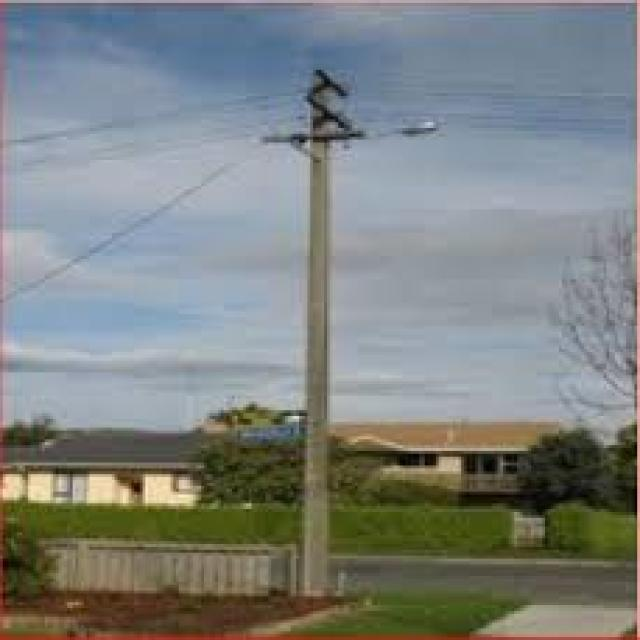light_pole: (246, 51, 449, 594)
